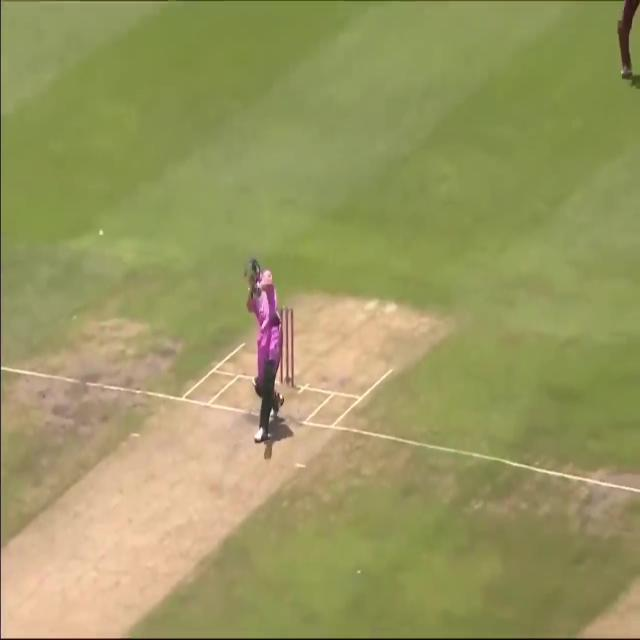Ball: (244, 256, 301, 442)
Fielder: (616, 1, 640, 83)
